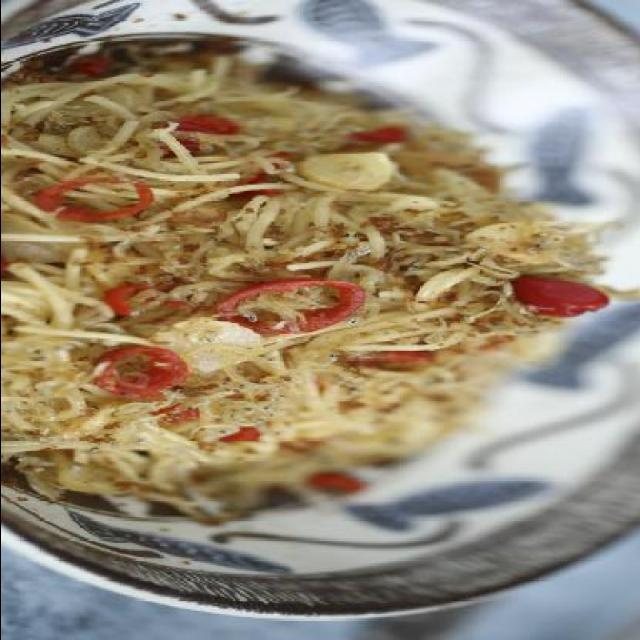Oil pasta: (0, 46, 598, 582)
